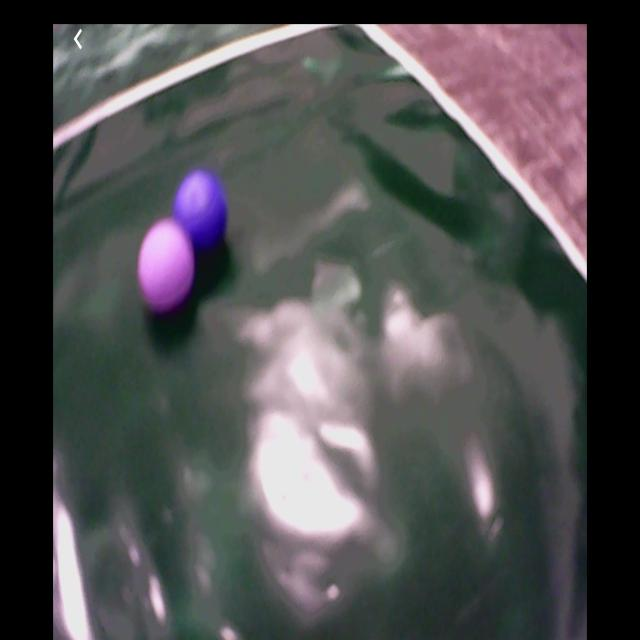ball: (140, 219, 197, 310), (175, 173, 229, 252)
